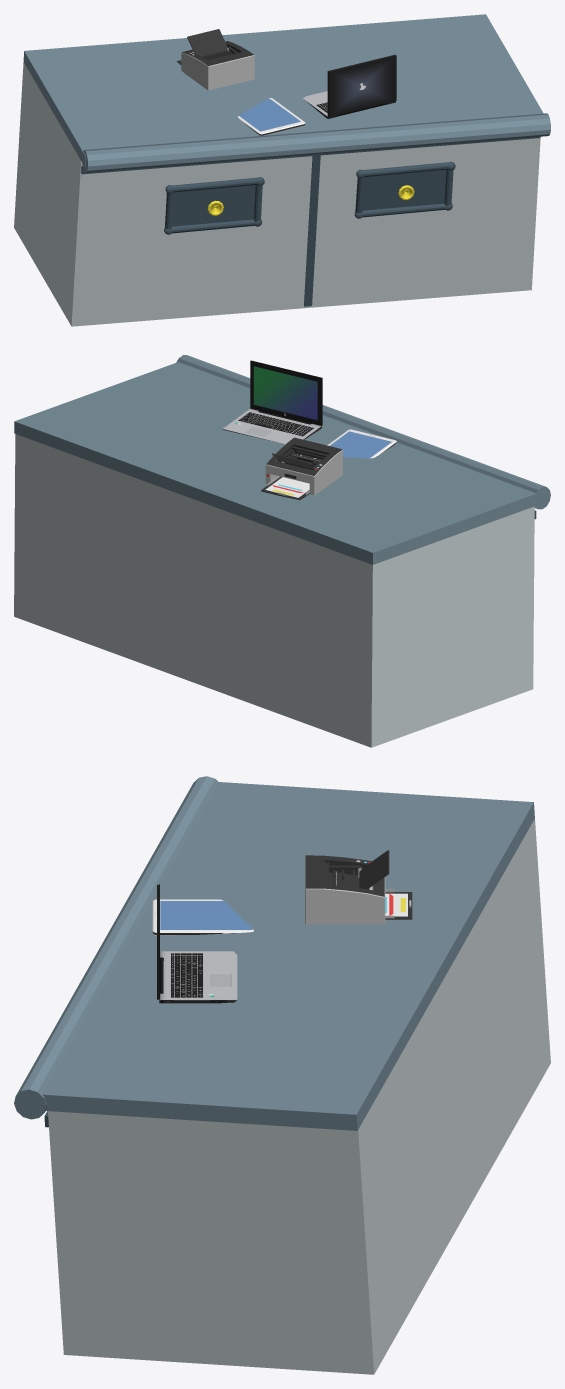
The model's file is reception_lvl3.glb.
3 renders of one model, top to bottom at view 1: azimuth 30°, elevation 25°; view 2: azimuth 150°, elevation 25°; view 3: azimuth 270°, elevation 25°, orthographic. The views are drawn at different scales.
Visible parts, largest first — view 1: Node, Laptop_mesh, Box027, ChamferBox001, Box029; view 2: Node, Laptop_mesh, Box027, ChamferBox001, Box023; view 3: Node, Box027, Laptop_mesh, ChamferBox001, Box029.
Part boxes in pixels (x1,y1,x2,y2): Node: (14, 14, 550, 326); Laptop_mesh: (303, 54, 396, 118); Box027: (181, 41, 254, 90); ChamferBox001: (238, 98, 305, 135); Box029: (187, 29, 227, 56); Node: (14, 355, 550, 747); Laptop_mesh: (222, 360, 322, 444); Box027: (265, 437, 342, 495); ChamferBox001: (327, 429, 396, 458); Box023: (265, 477, 309, 497); Node: (14, 776, 550, 1374); Box027: (305, 855, 385, 924); Laptop_mesh: (157, 884, 237, 1003); ChamferBox001: (152, 899, 253, 935); Box029: (359, 850, 389, 889).
Bounding box in the file's own units: 2.53 × 1.26 × 1.76.
16 materials, 1 textured.
